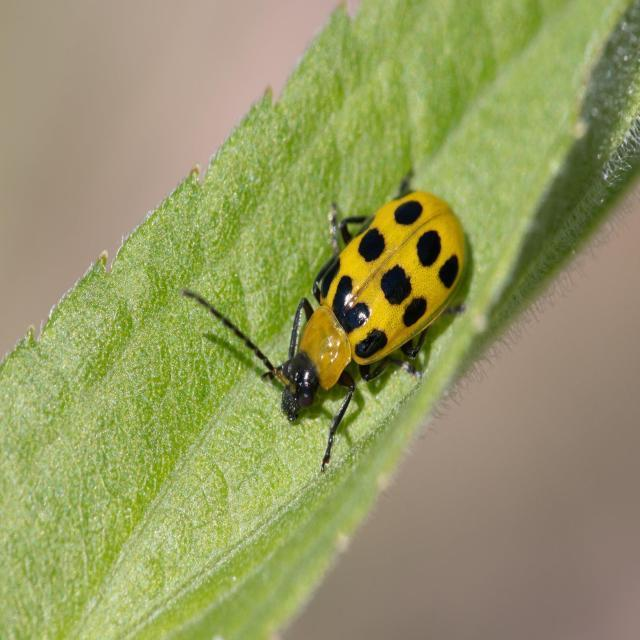gusano_verde: (185, 166, 470, 467)
